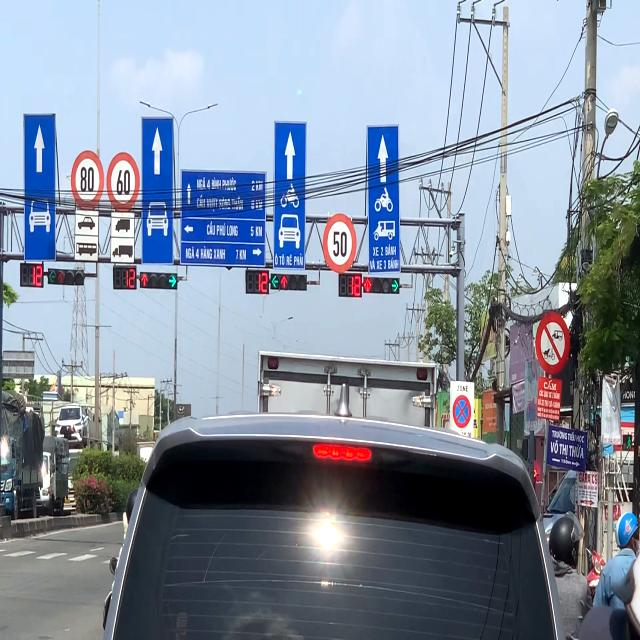P.127: (106, 152, 140, 213), (70, 150, 104, 211), (323, 213, 357, 273)
P.130: (452, 394, 472, 428)
